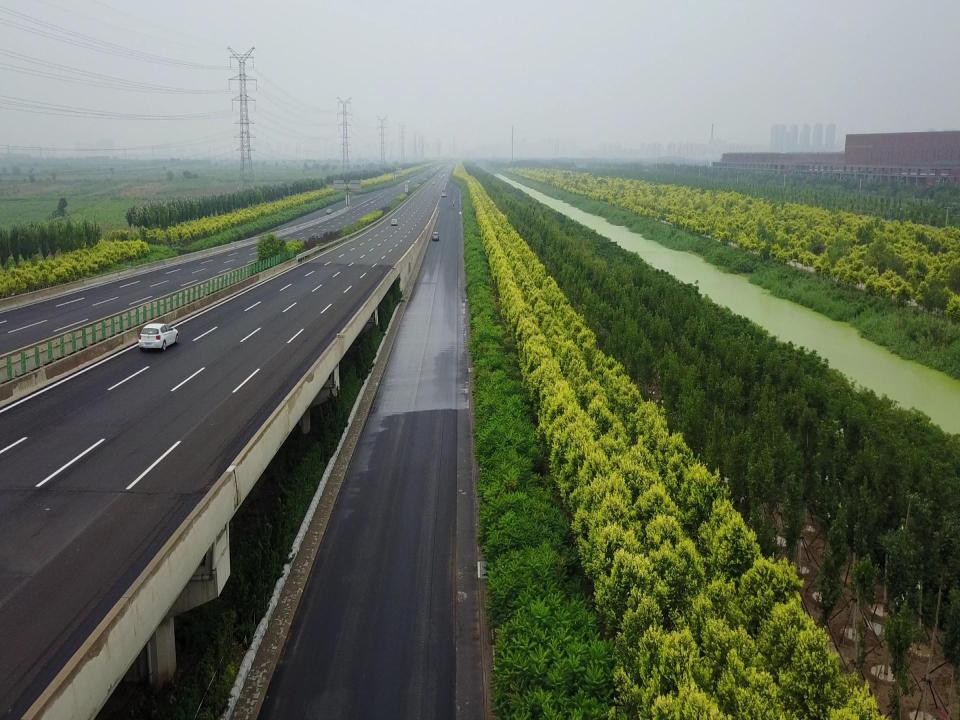bus: (440, 188, 446, 197)
car: (137, 322, 179, 352), (432, 232, 440, 241), (391, 218, 397, 225), (326, 208, 332, 214)
